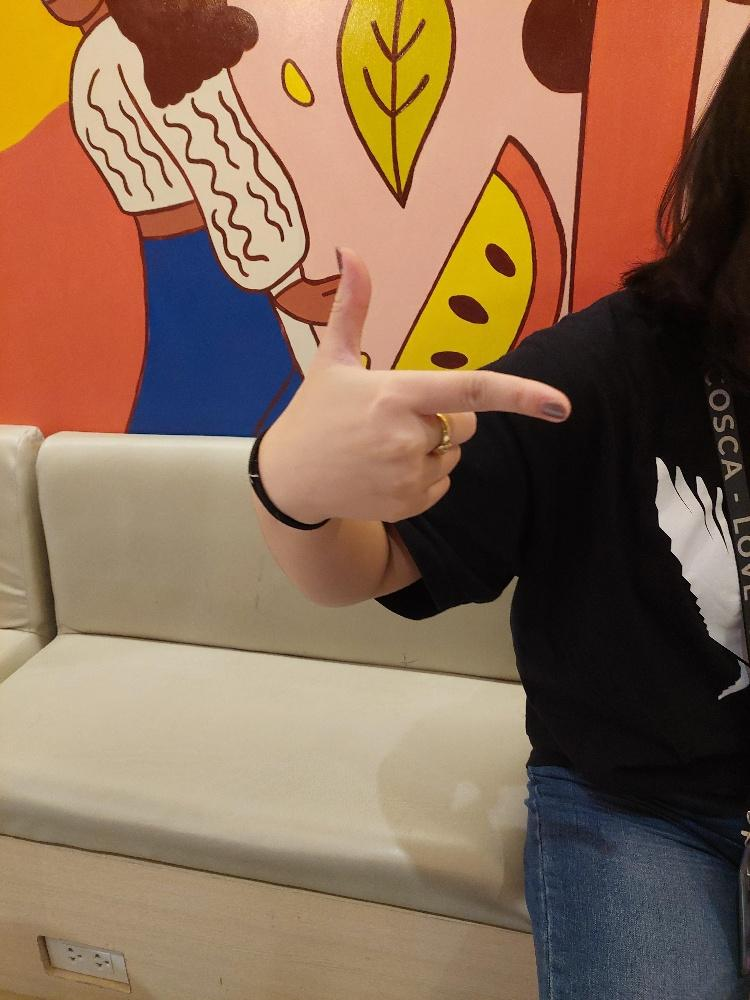g: (251, 241, 572, 525)
